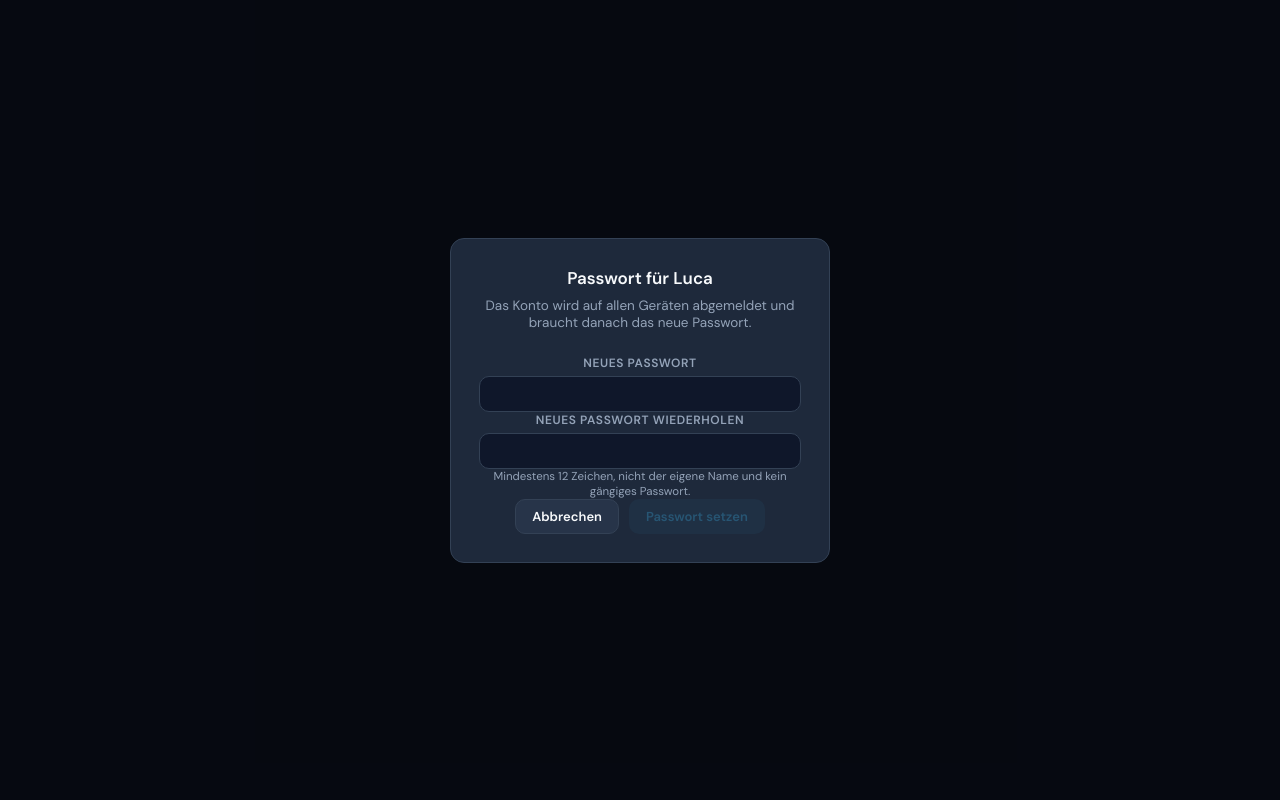
Test: PasswordDialog — rohe Fehlercodes › übersetzt einen Datenbankfehler des fremden Kontos
Type "Baustelle-Winterthur-42" into the password field labelled "Neues Passwort" at (640, 394), box [479,376,801,412]
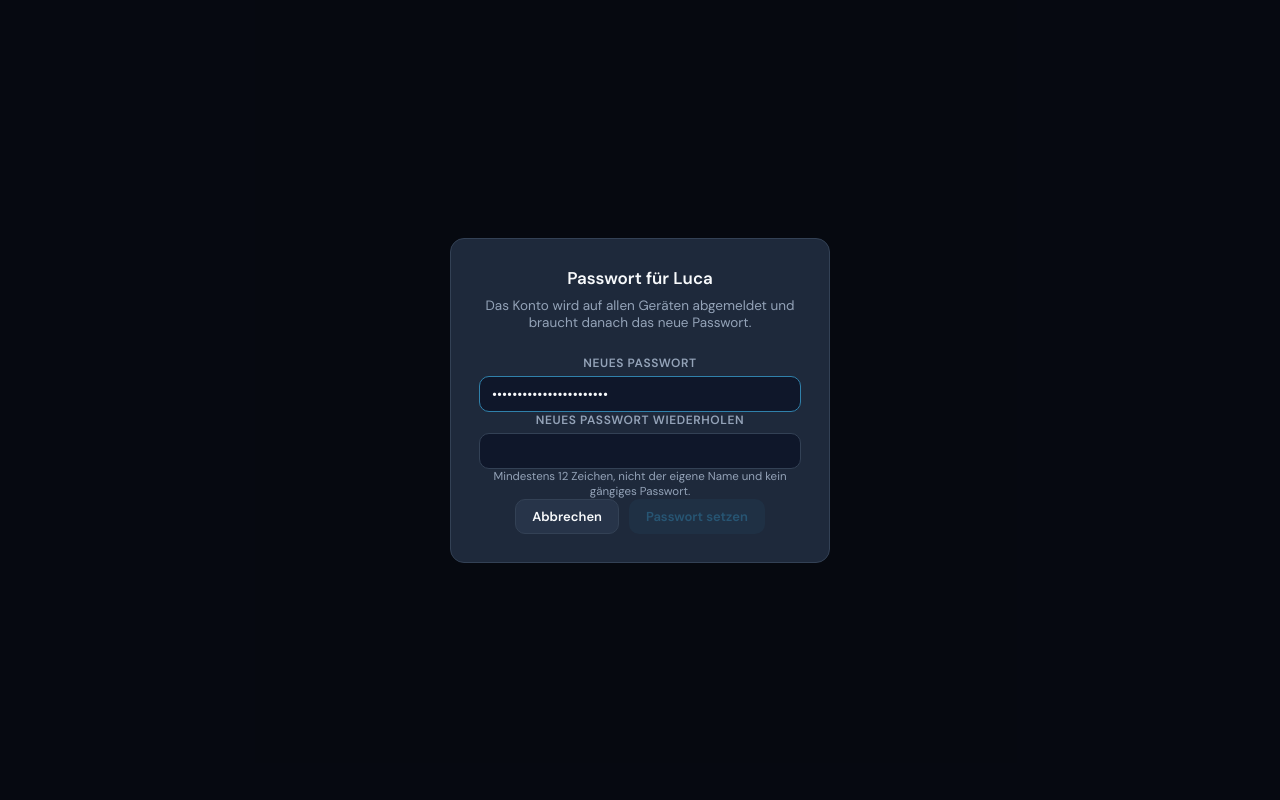
Type "Baustelle-Winterthur-42" into the password field labelled "Neues Passwort wiederholen" at (640, 450), box [479,432,801,468]
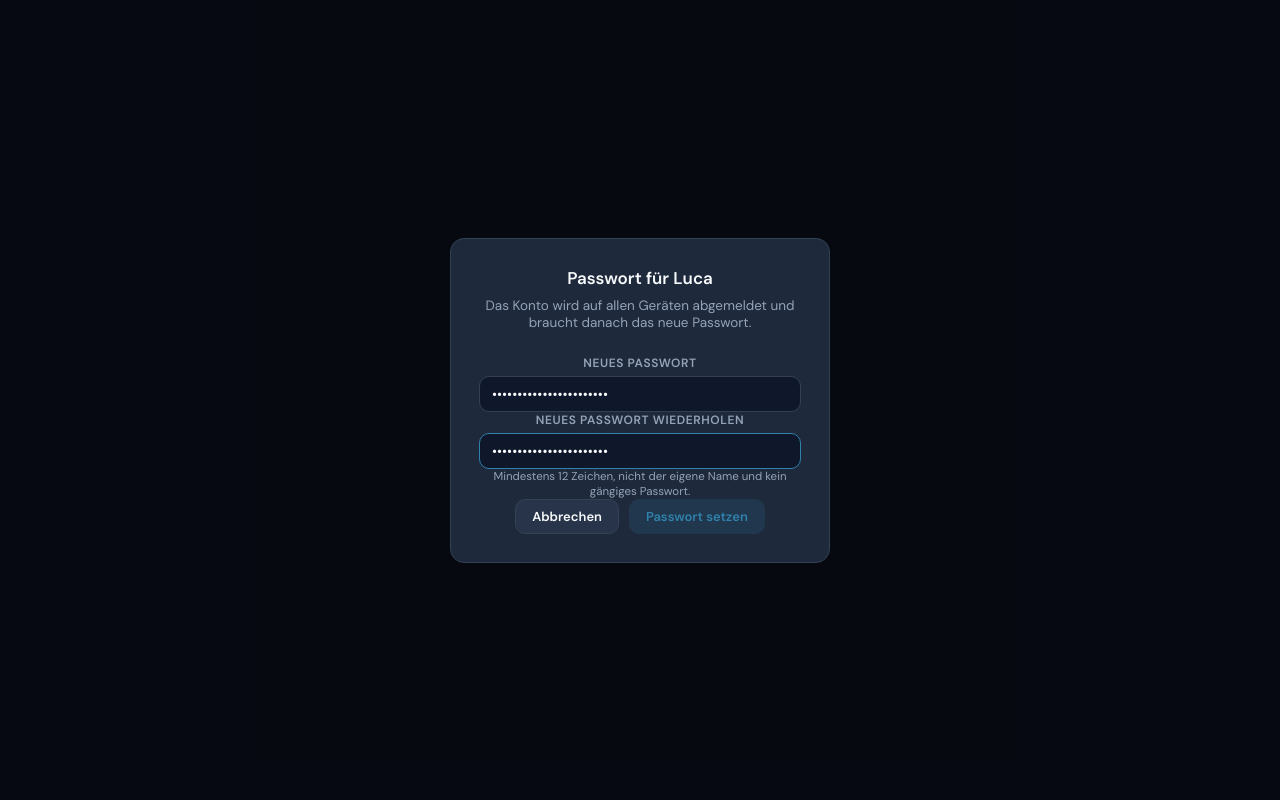
Click the button "Passwort setzen" at (697, 516), box [629,498,765,534]
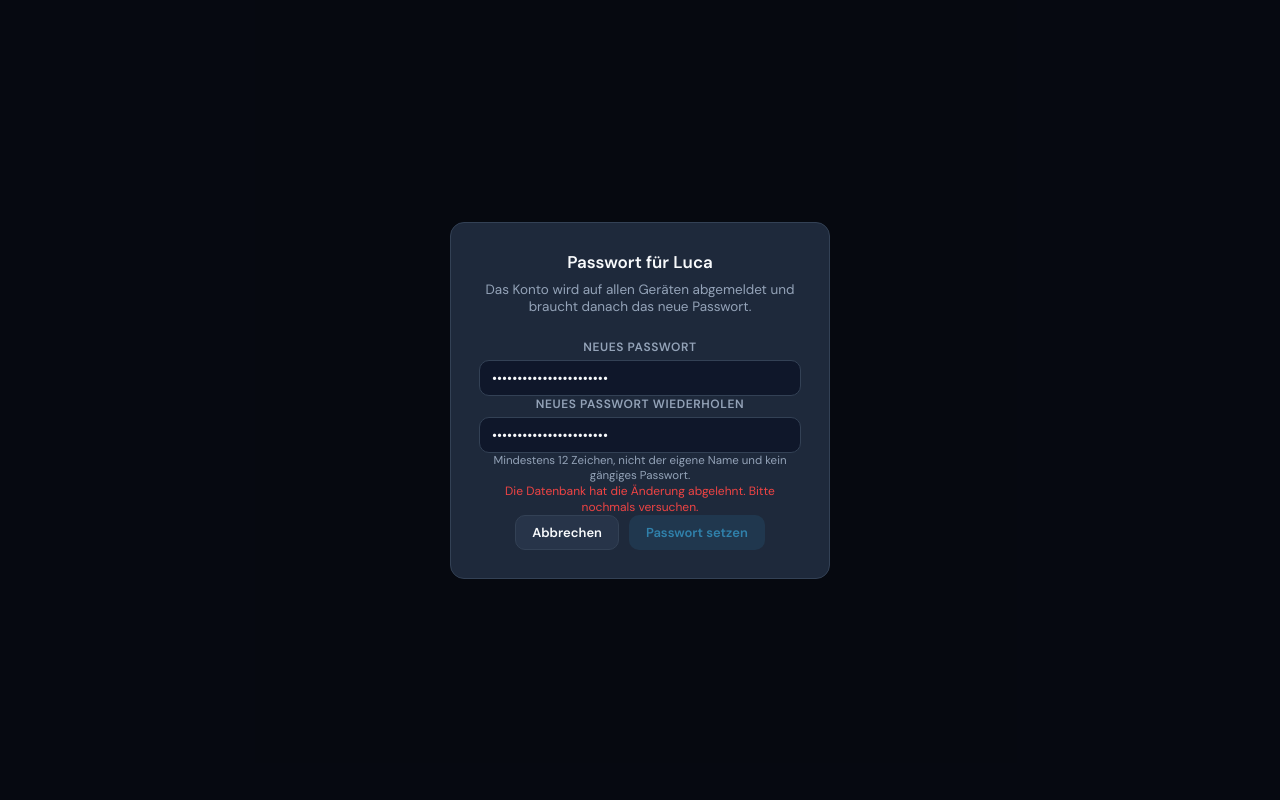
Result: the text "Die Datenbank hat die Änderung abgelehnt. Bitte nochmals versuchen." is shown at [505,482,775,514]
